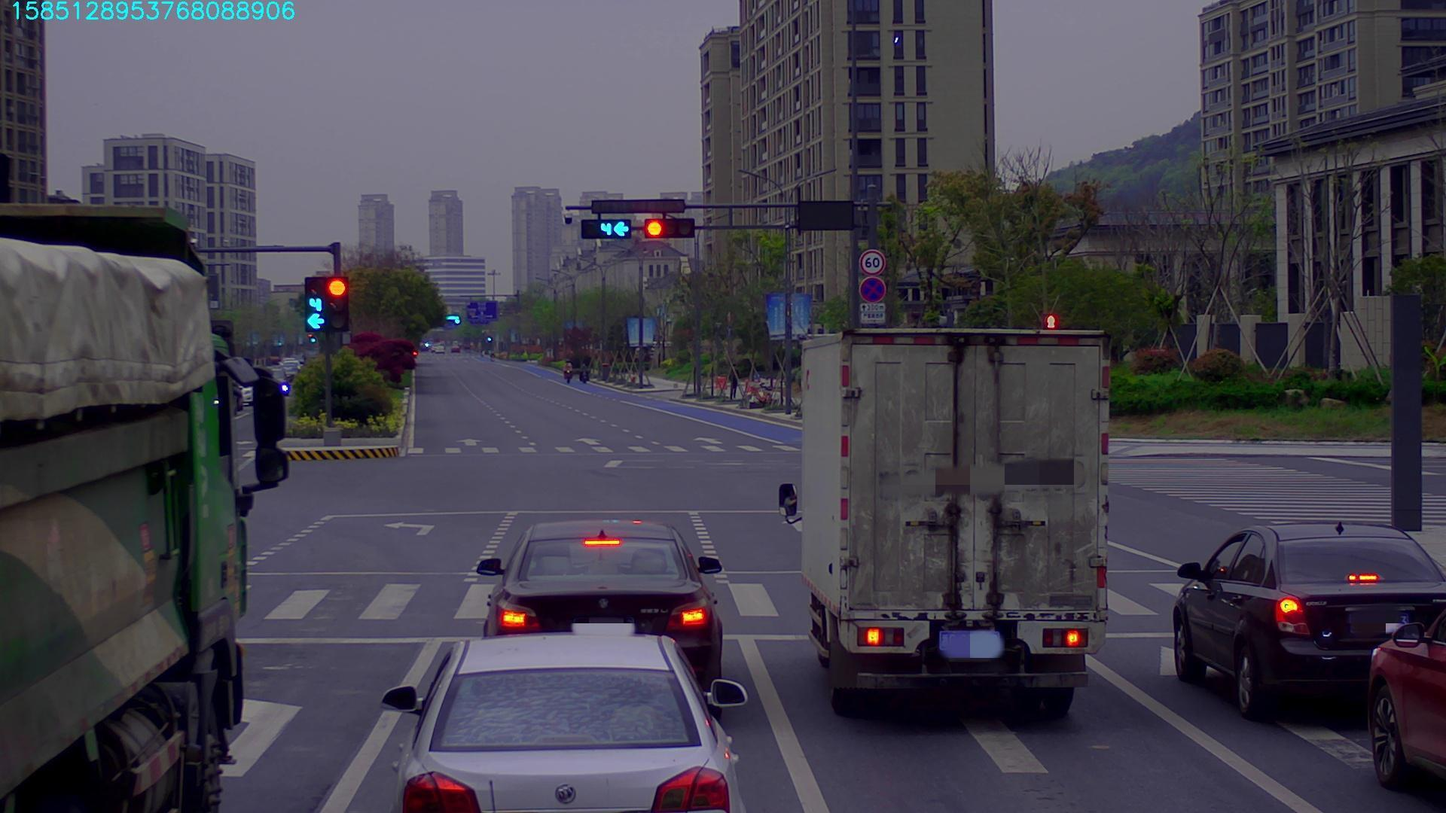green: (583, 219, 627, 237)
red: (644, 221, 691, 236)
